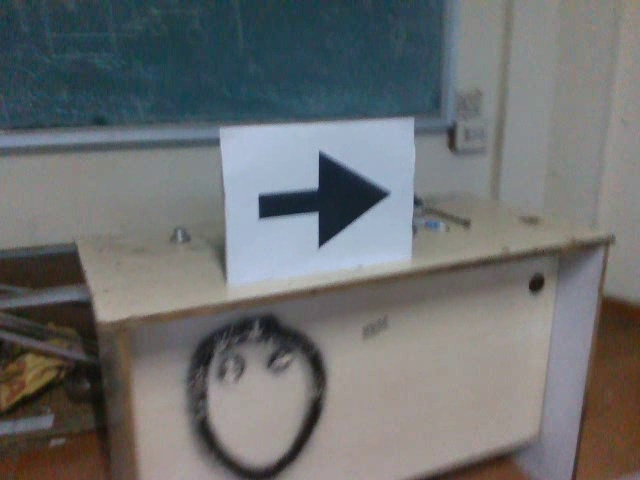Right: (248, 146, 395, 250)
